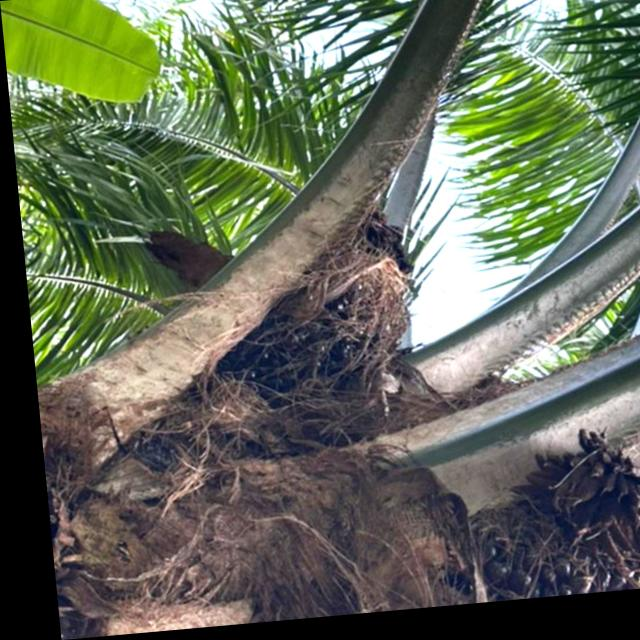unripe: (167, 205, 436, 463)
